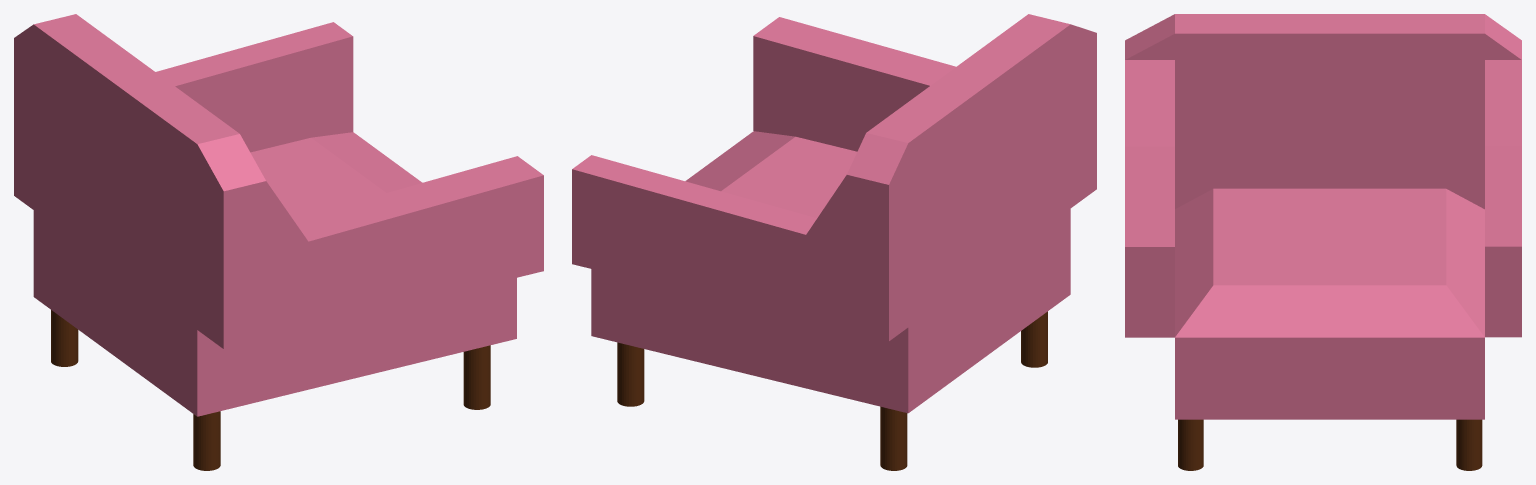
File: chair.fbx
3 views of the same model, side by side, from view 1: azimuth 30°, elevation 25°; view 2: azimuth 150°, elevation 25°; view 3: azimuth 270°, elevation 25° (orthographic). The views are drawn at different scales.
Parts seen in each view (by area): view 1: Cube, Cylinder.001, Cylinder.002, Cylinder.003; view 2: Cube, Cylinder.003, Cylinder, Cylinder.002; view 3: Cube, Cylinder, Cylinder.001.
Boxes of the visible parts, box(x1,y1,x2,y2) form: Cube: box(14, 14, 543, 416); Cylinder.001: box(463, 345, 490, 409); Cylinder.002: box(193, 411, 220, 470); Cylinder.003: box(51, 310, 78, 366); Cube: box(572, 14, 1096, 413); Cylinder.003: box(880, 406, 907, 470); Cylinder: box(617, 342, 644, 406); Cylinder.002: box(1021, 311, 1047, 367); Cube: box(1125, 14, 1521, 419); Cylinder: box(1456, 419, 1482, 470); Cylinder.001: box(1178, 419, 1203, 470).
Size of the model in its own units: 384 by 385 by 435.
